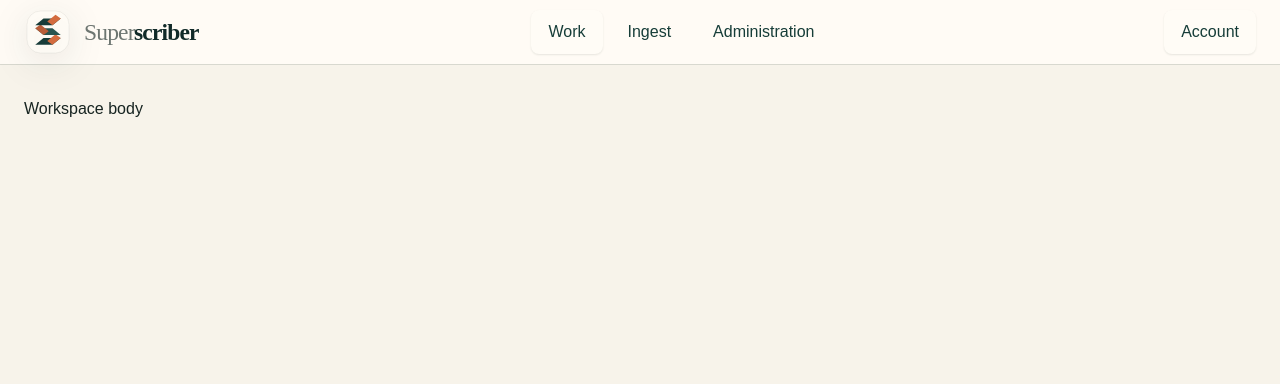
AppShell › renders a skip link, 44 px target class hooks, and account details
The image size is (1280, 384).
Click the button with aria-label "Open account menu". click: (1210, 32)
box: [1164,10,1256,54]
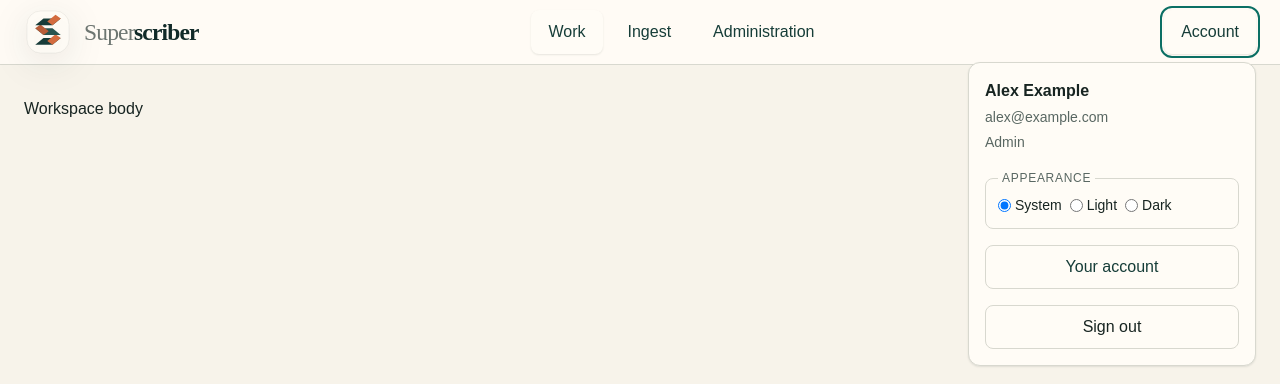
Check: the text "Alex Example" is shown, box [985,82,1089,99]
Check: the text "alex@example.com" is shown, box [985,109,1108,125]
Check: the text "Admin" is shown, box [985,134,1025,150]
